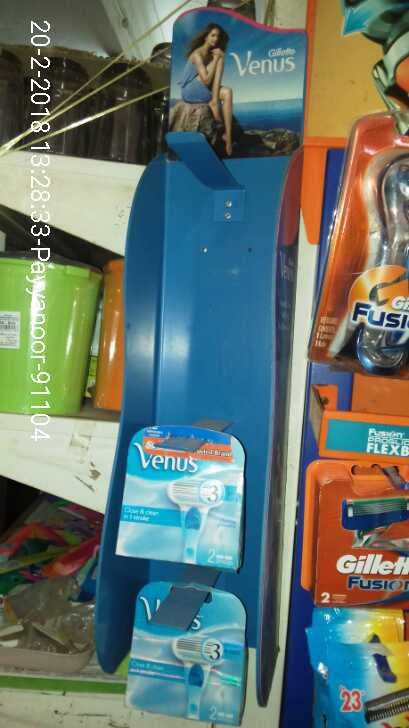beauty: (324, 118, 409, 376), (108, 424, 248, 574), (133, 581, 247, 726), (312, 459, 409, 603)
